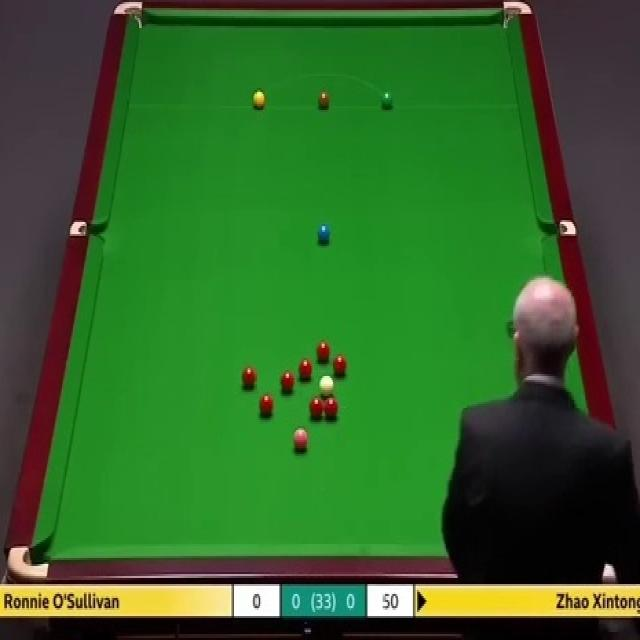blue-ball: (316, 223, 329, 245)
brown-ball: (317, 92, 330, 109)
green-ball: (382, 88, 396, 112)
pink-ball: (294, 427, 307, 451)
red-ball: (258, 393, 275, 418), (308, 396, 325, 419), (279, 370, 296, 392), (324, 397, 339, 421), (242, 366, 256, 389), (334, 355, 348, 378), (298, 358, 312, 380), (316, 342, 331, 360)
white-ball: (319, 375, 334, 395)
yellow-ball: (252, 89, 266, 110)
